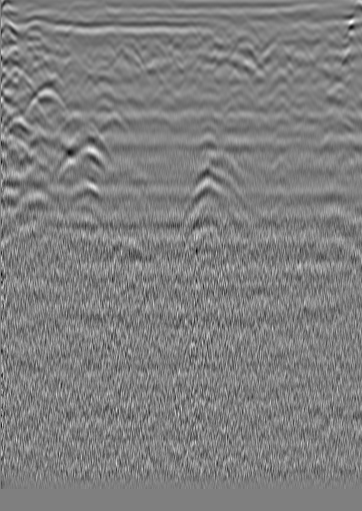가스: (98, 229, 144, 263)
상수: (325, 35, 345, 55)
오수: (30, 30, 50, 50)
우수: (212, 39, 232, 59)
